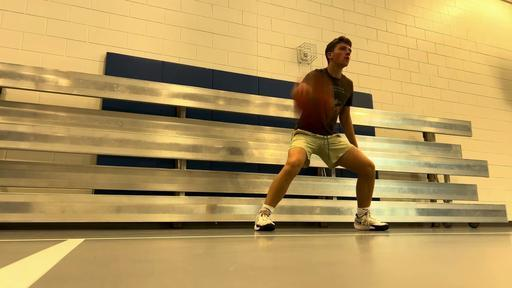ball: (298, 86, 336, 119)
human: (254, 36, 390, 230)
